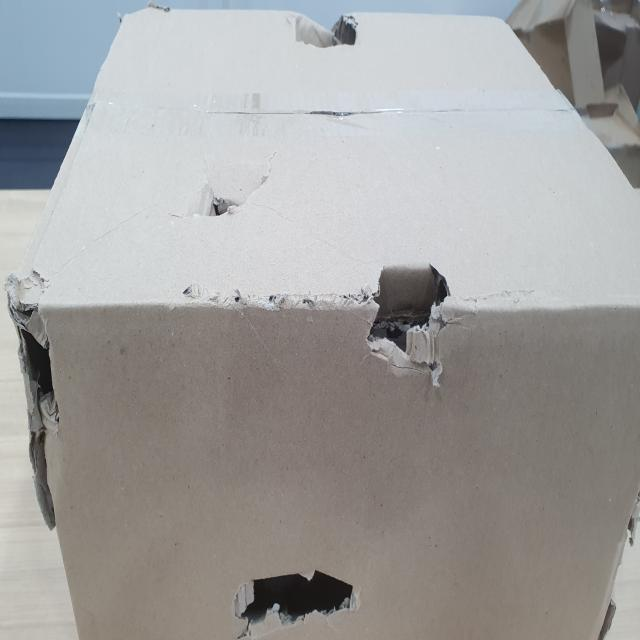hole: (366, 260, 463, 386), (13, 305, 67, 504), (239, 556, 359, 637), (285, 11, 367, 59), (190, 178, 243, 228)
